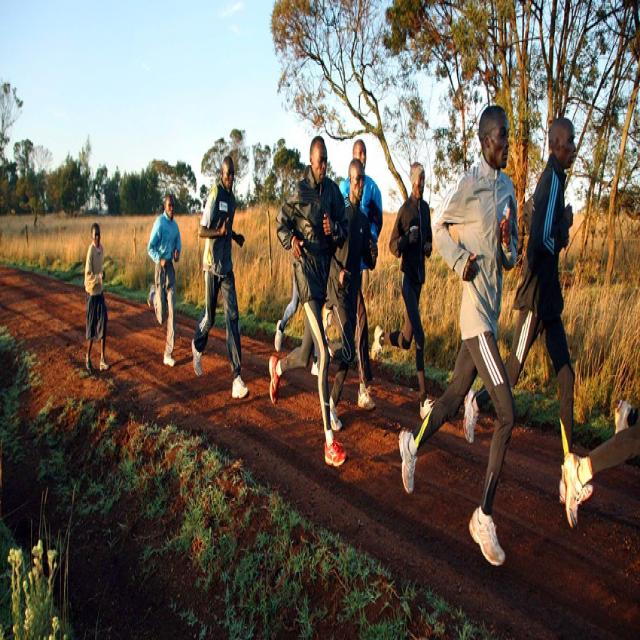body: (396, 102, 520, 568), (460, 113, 594, 505), (266, 133, 350, 468), (368, 159, 438, 420), (320, 134, 385, 412), (190, 154, 250, 401), (328, 156, 378, 432), (144, 191, 182, 369), (274, 265, 320, 379), (84, 220, 112, 372)
